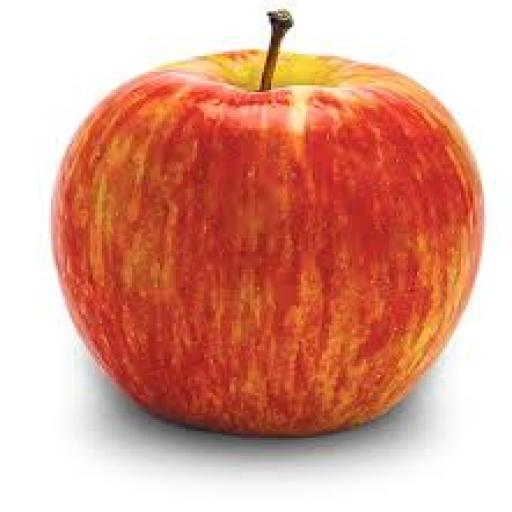apple: (54, 14, 481, 435)
